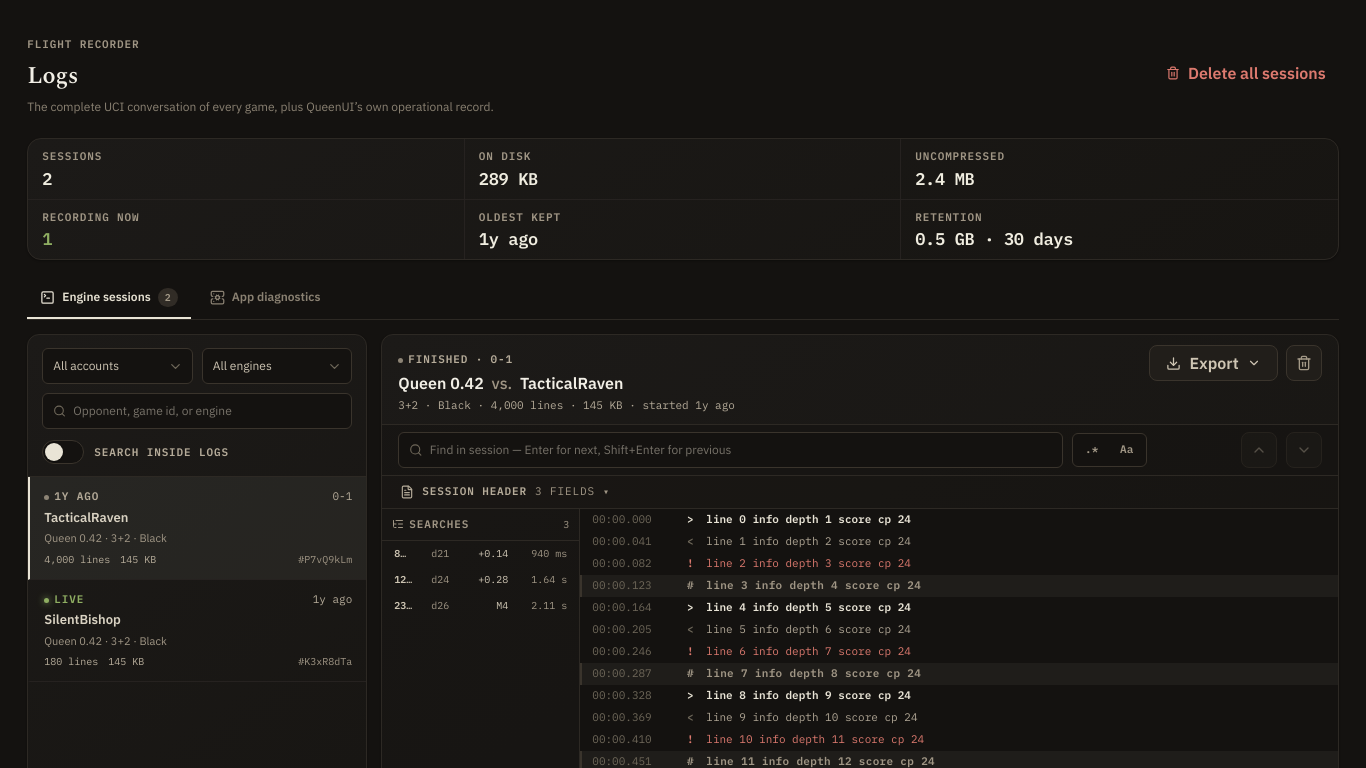
Test: LogsPage engine sessions › searches inside the session and steps through the matches
expect the text "line 0 info depth 1 score cp 24" is shown: met, box [706,512,911,526]
Type "bestmove" into the field named "Search inside this session" at coordinates (741, 450), box [430,440,1052,458]
Then press Enter
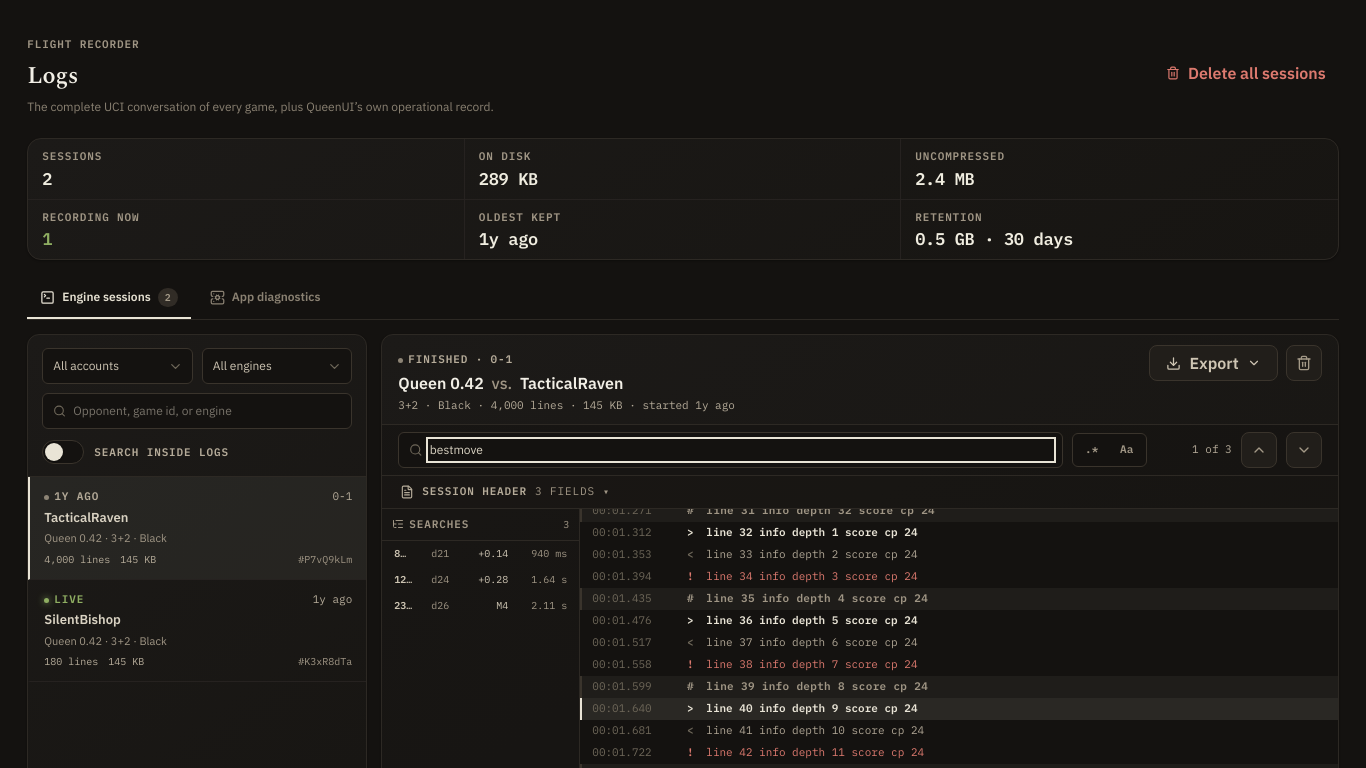
expect the text "1 of 3" is shown: met, box [1192,442,1232,456]
Click the button named "Next match" at coordinates (1304, 450), box [1286,432,1322,468]
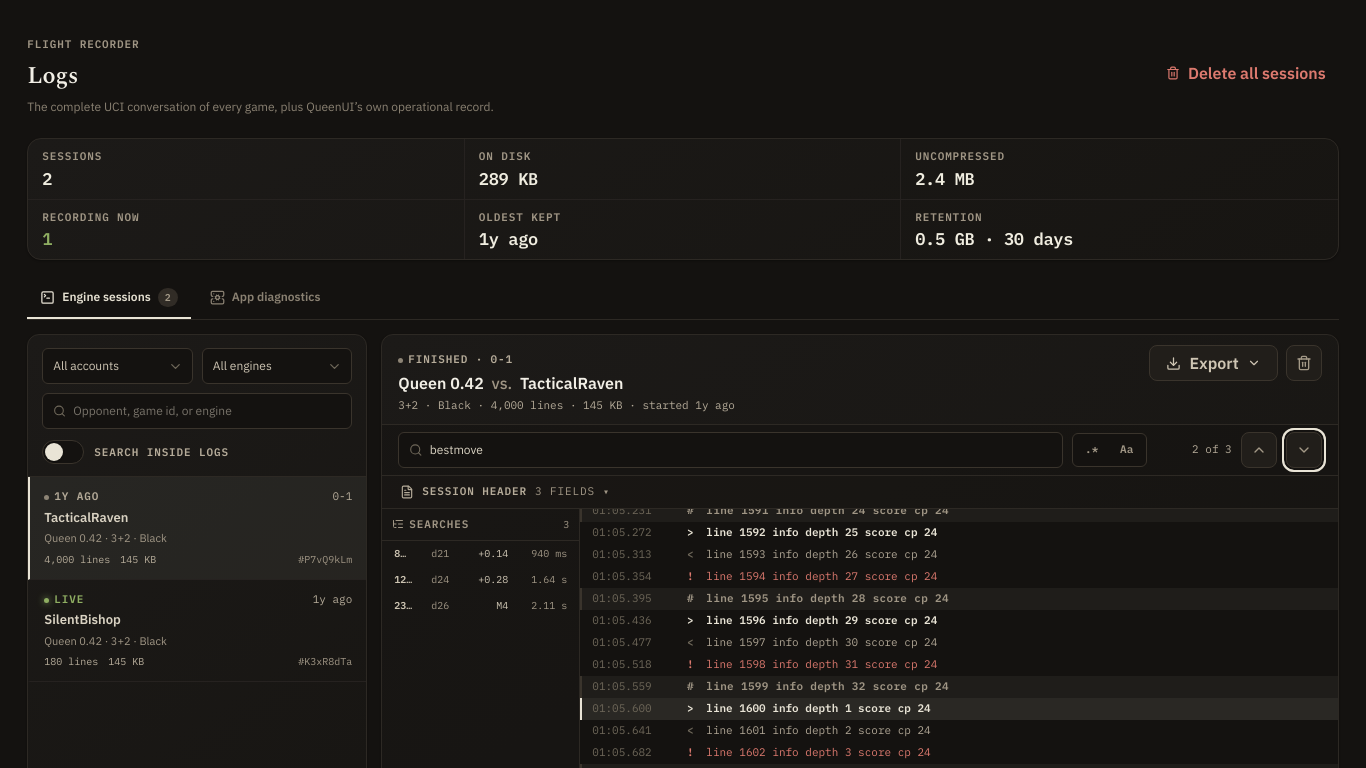
expect the text "2 of 3" is shown: met, box [1192,442,1232,456]
Click the button named "Previous match" at coordinates (1259, 450), box [1241,432,1277,468]
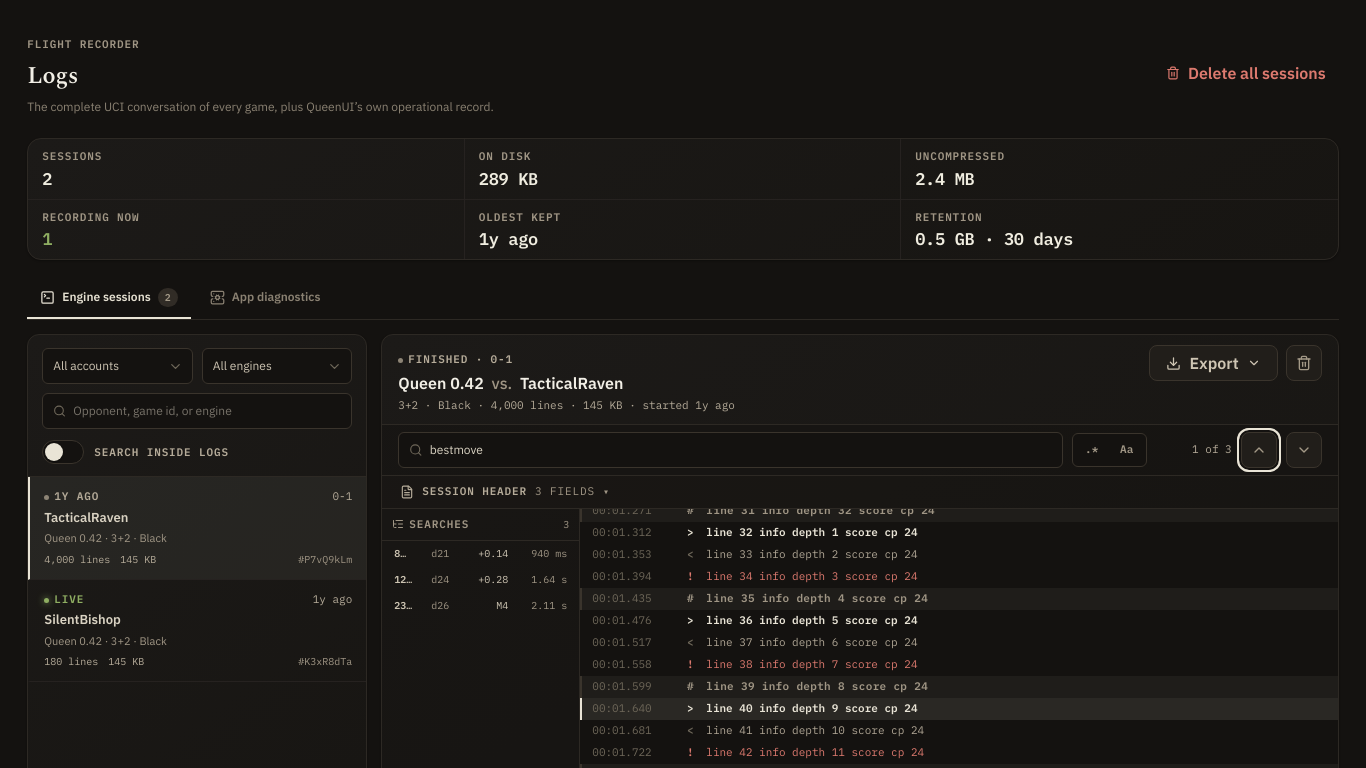
expect the text "1 of 3" is shown: met, box [1192,442,1232,456]
